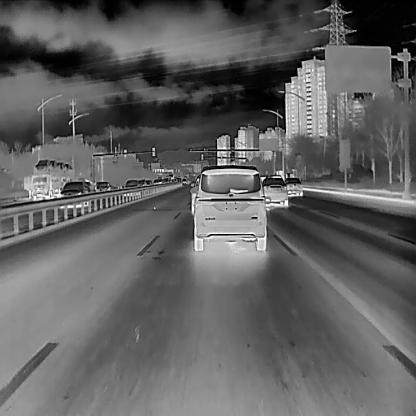car: (190, 162, 266, 252), (260, 173, 288, 209), (60, 180, 90, 210), (121, 178, 154, 195), (285, 176, 303, 197), (94, 180, 112, 196)
truck: (26, 158, 73, 200)
